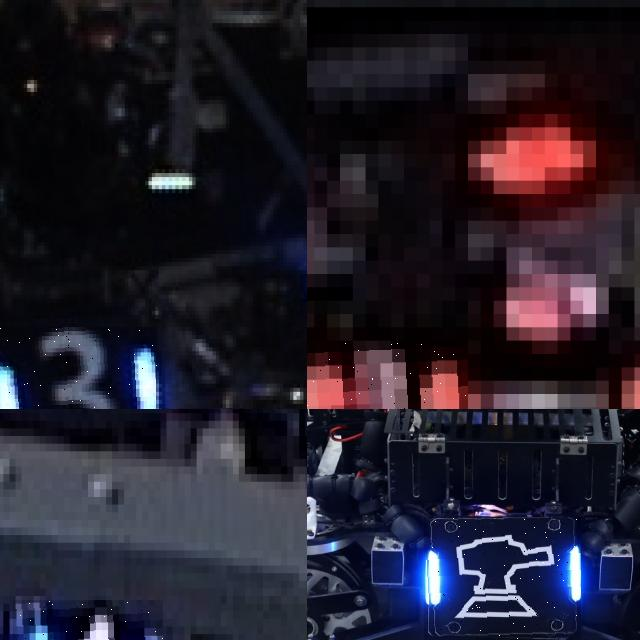B3: (0, 327, 158, 409)
B4: (12, 599, 163, 640)
Bs: (424, 516, 580, 640)
R3: (307, 340, 468, 409)
